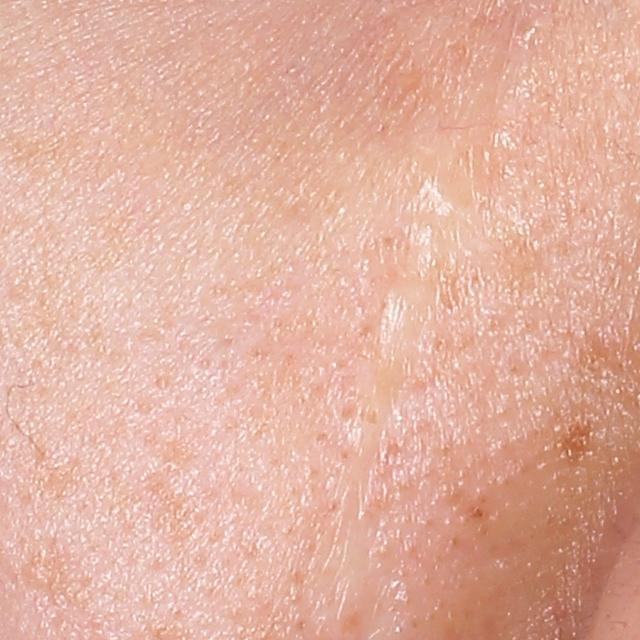melasma: (563, 420, 596, 471)
